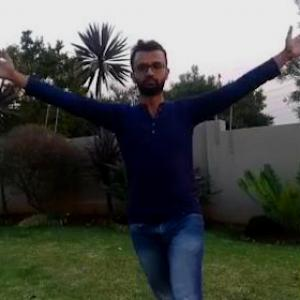takeoff: (1, 32, 300, 299)
